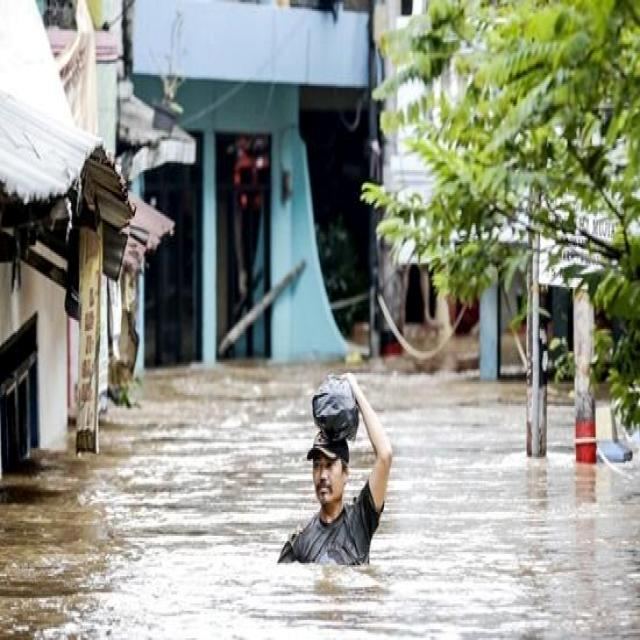civilian: (271, 363, 393, 581)
